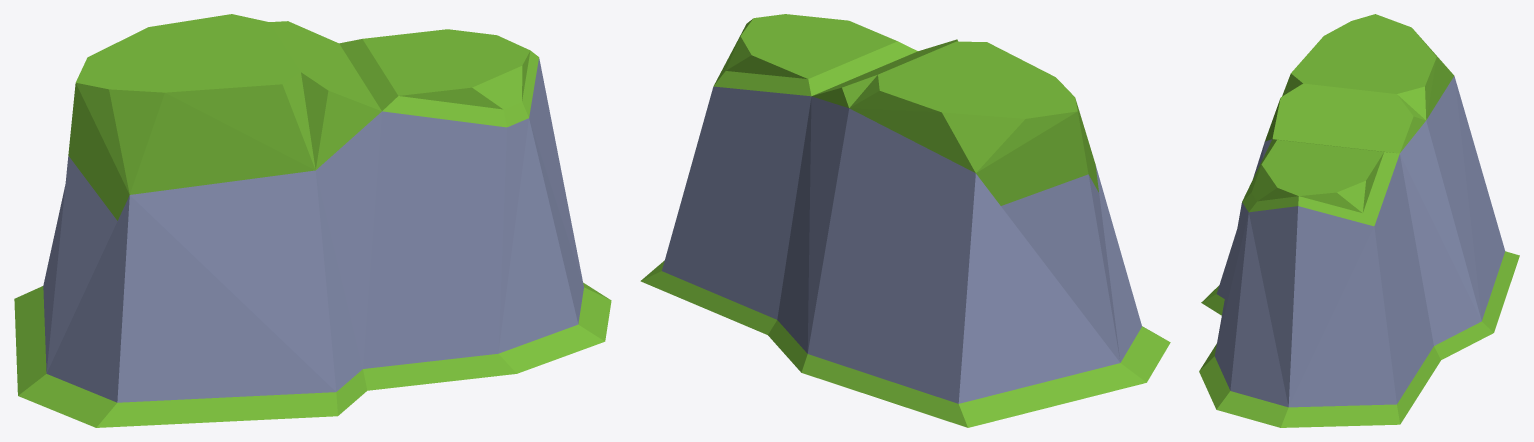
The model's file is Rock_4_1.fbx.
The picture shows the model from 3 angles, left to right: view 1: azimuth 30°, elevation 25°; view 2: azimuth 150°, elevation 25°; view 3: azimuth 270°, elevation 25°; orthographic projection. The views are drawn at different scales.
Visible parts, largest first — view 1: Rock_4_1; view 2: Rock_4_1; view 3: Rock_4_1.
Part boxes in pixels (box(x1,y1,x2,y2)): Rock_4_1: box(14, 14, 611, 427); Rock_4_1: box(640, 14, 1170, 427); Rock_4_1: box(1199, 14, 1519, 427).
Size of the model in its own units: 4.83 by 2.47 by 3.12.
